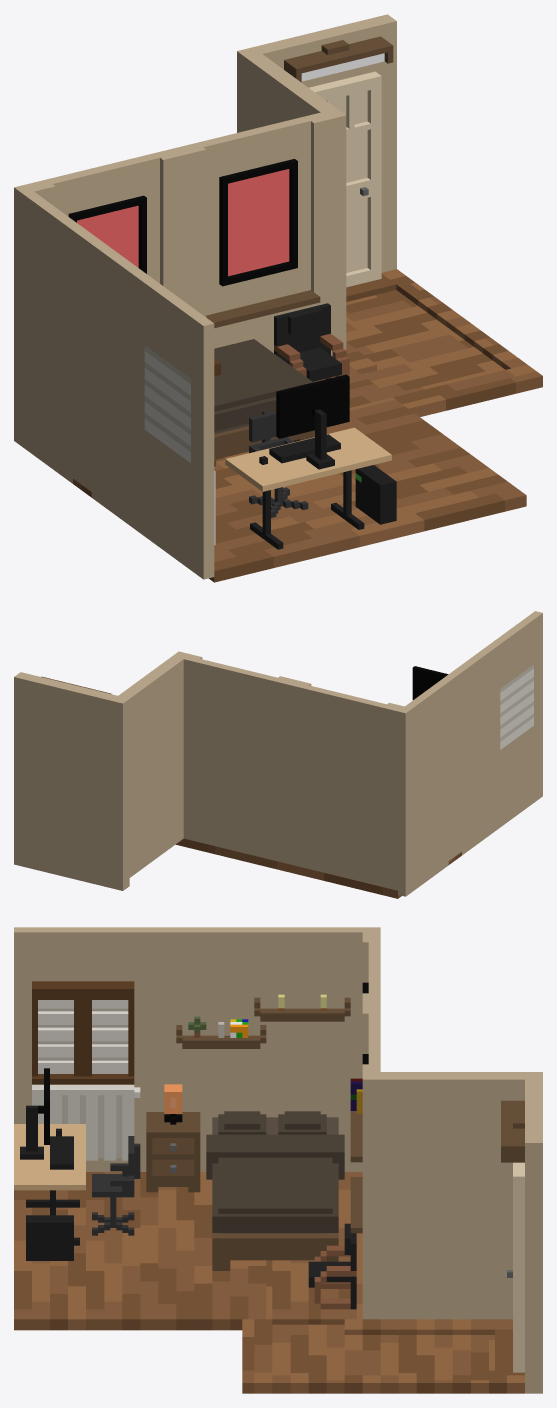
The model's file is bedroom.glb.
The picture shows the model from 3 angles, top to bottom: view 1: azimuth 30°, elevation 25°; view 2: azimuth 150°, elevation 25°; view 3: azimuth 270°, elevation 25°; orthographic projection. The views are drawn at different scales.
Visible parts, largest first — view 1: room, desktop, bed, right paint, screen, left_paint, whiteLight; view 2: room, screen; view 3: room, bed, desktop, orangeLight.
Part boxes in pixels (x1,y1,x2,y2): room: (14,14,542,582); desktop: (225,409,396,549); bed: (214,339,314,459); right paint: (228,169,289,276); screen: (276,374,349,438); left_paint: (77,205,138,267); whiteLight: (301,53,384,81); room: (14,611,542,898); screen: (412,666,448,699); room: (14,927,542,1393); bed: (206,1111,344,1270); desktop: (14,1105,140,1260); orangeLight: (164,1084,182,1113).
Size of the model in its own units: 8.5 by 4.6 by 8.8.
Materials: 8 (8 with a texture image).
